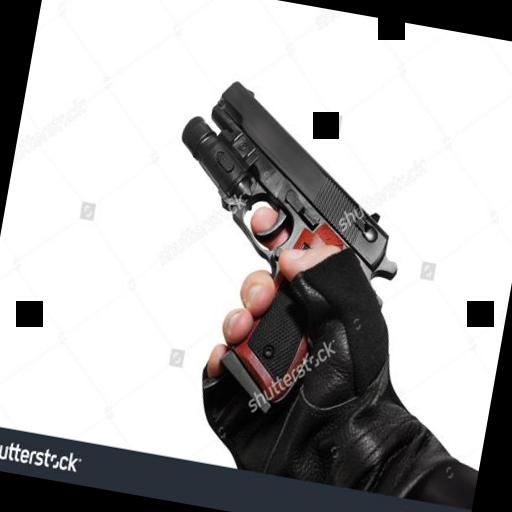Handgun: (133, 68, 428, 430)
